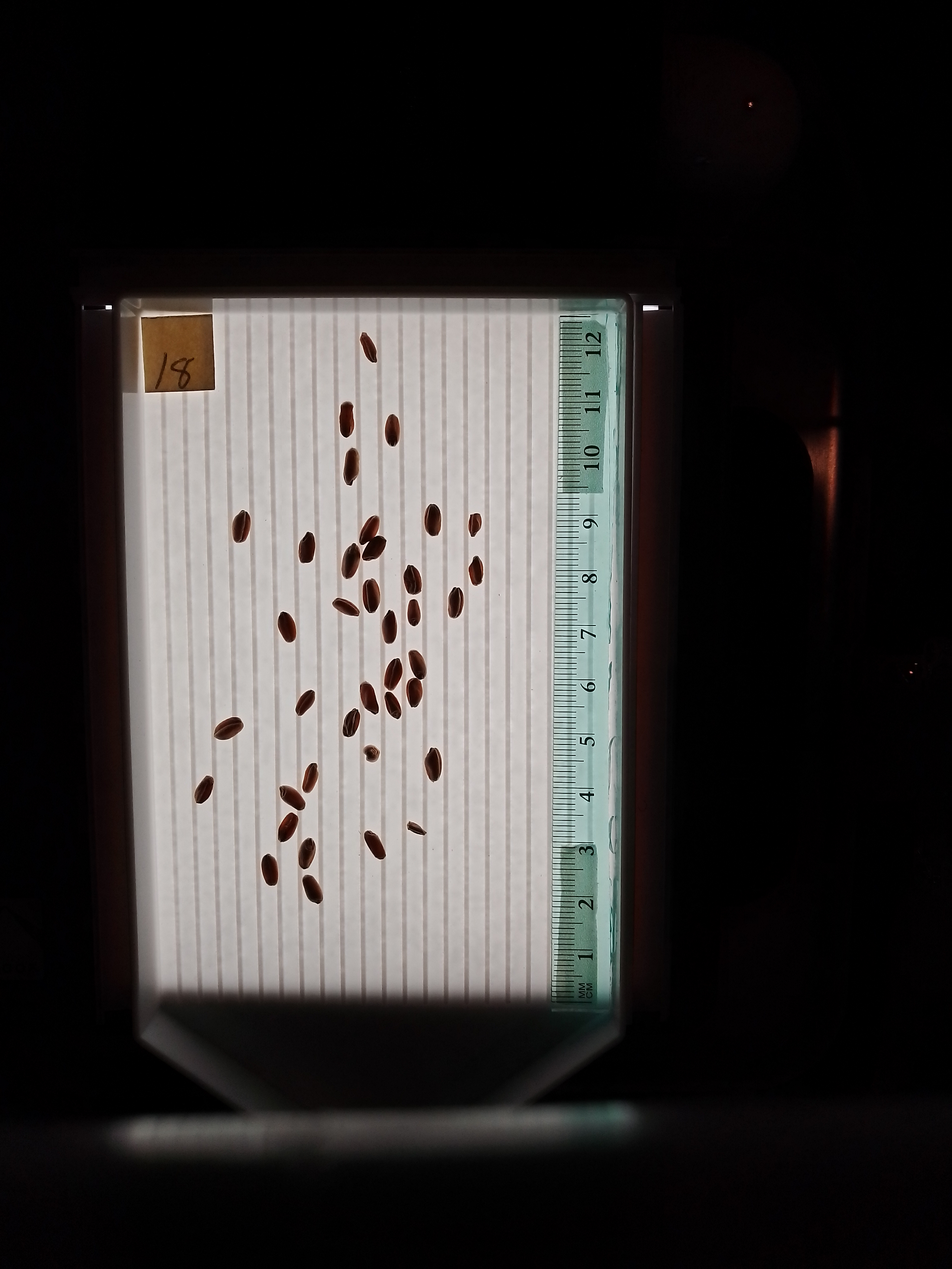seed mask: (214, 717, 243, 740), (280, 786, 305, 811), (364, 832, 386, 860), (424, 748, 442, 782), (342, 545, 360, 578), (278, 813, 298, 842), (363, 579, 380, 613), (343, 449, 359, 485), (233, 511, 251, 543), (363, 536, 386, 561), (360, 683, 379, 713), (339, 402, 355, 437), (360, 516, 380, 544), (424, 505, 442, 536), (194, 776, 214, 803), (298, 533, 316, 563), (303, 876, 323, 903), (261, 855, 278, 886), (360, 333, 378, 362), (403, 566, 421, 595), (278, 613, 296, 642), (385, 659, 402, 689), (302, 763, 319, 793), (448, 587, 464, 618), (382, 611, 397, 643), (299, 839, 315, 869), (385, 415, 400, 446), (407, 678, 423, 707), (409, 651, 426, 678), (343, 710, 360, 737), (296, 691, 315, 714), (334, 598, 358, 616), (469, 557, 484, 585), (386, 693, 401, 718), (407, 600, 421, 625), (469, 514, 482, 535), (408, 822, 425, 835)
